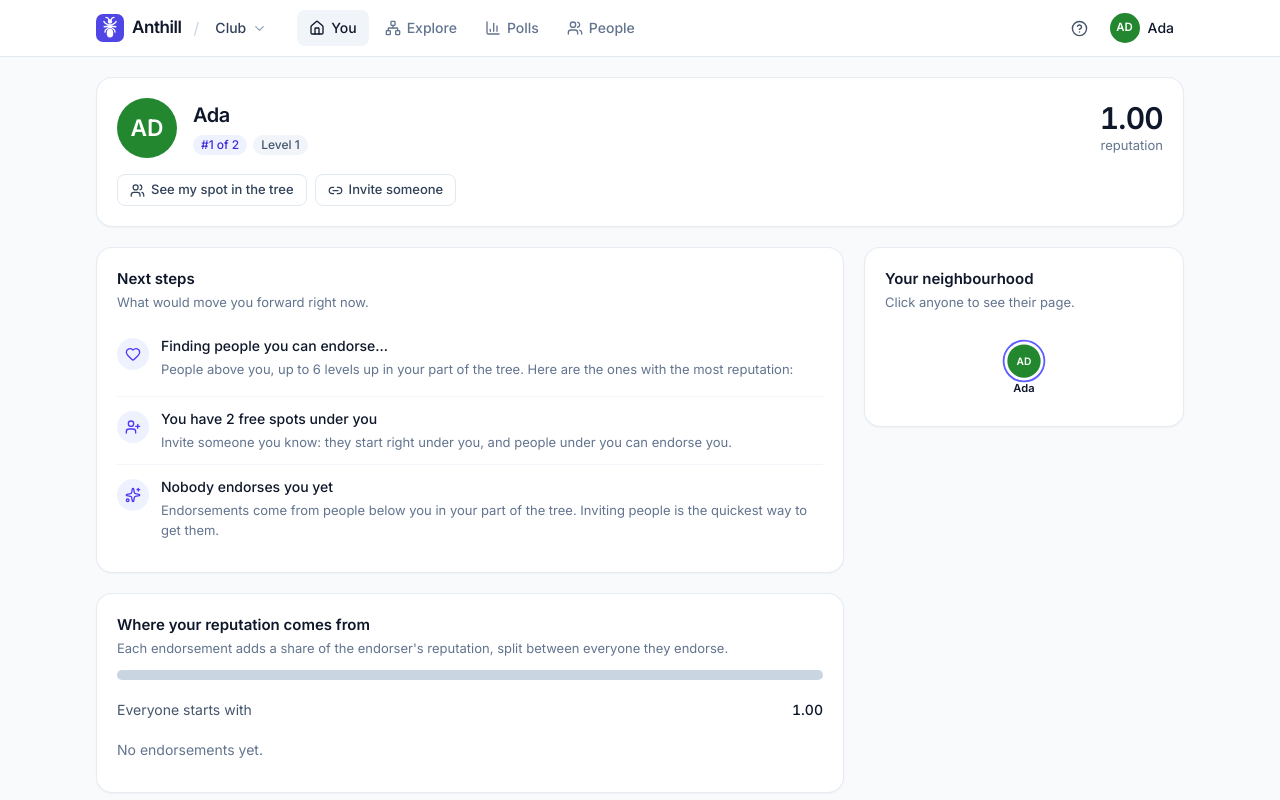
Test: Customise › won't save over a site it couldn't load
Click the button "Club".
click(241, 28)  # box [205,10,277,46]
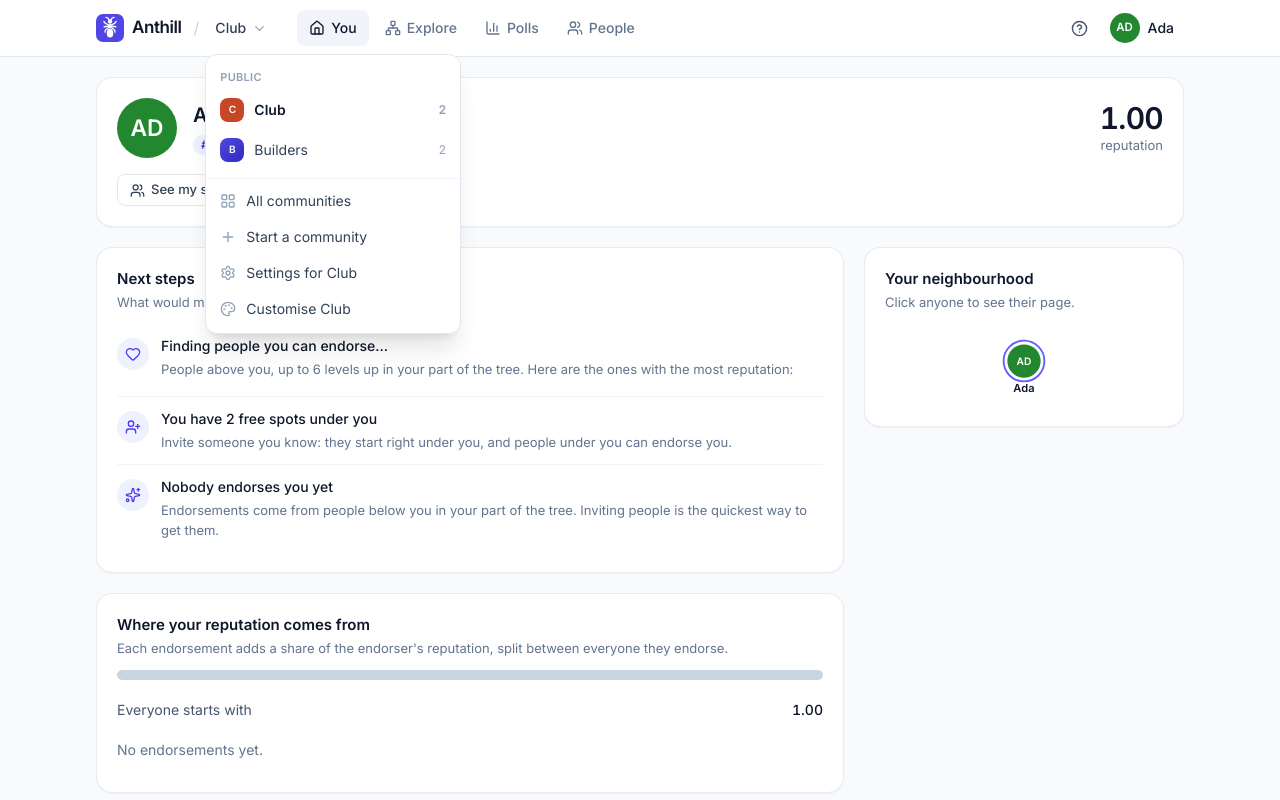
Click the button "Customise Club".
click(333, 308)  # box [206,290,460,326]
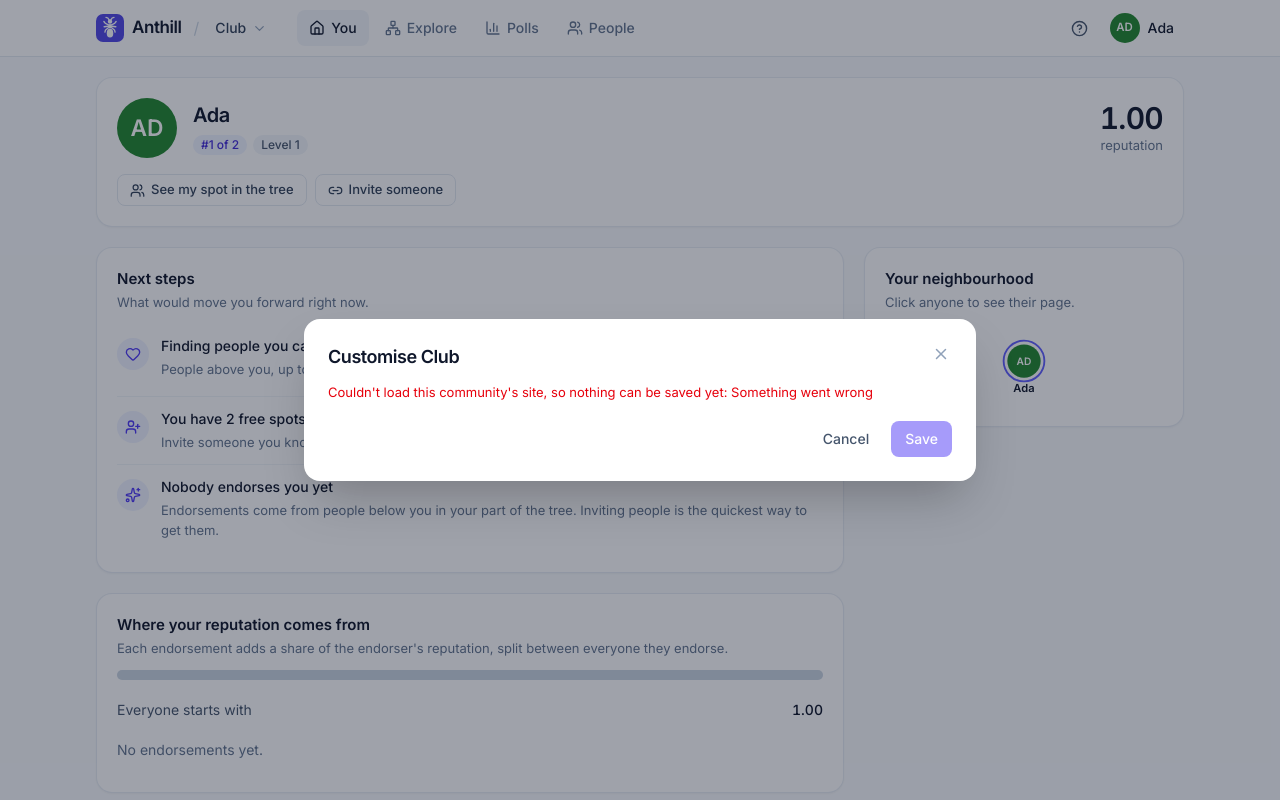
expect the button "Save" is disabled: met, box [891,421,952,457]
